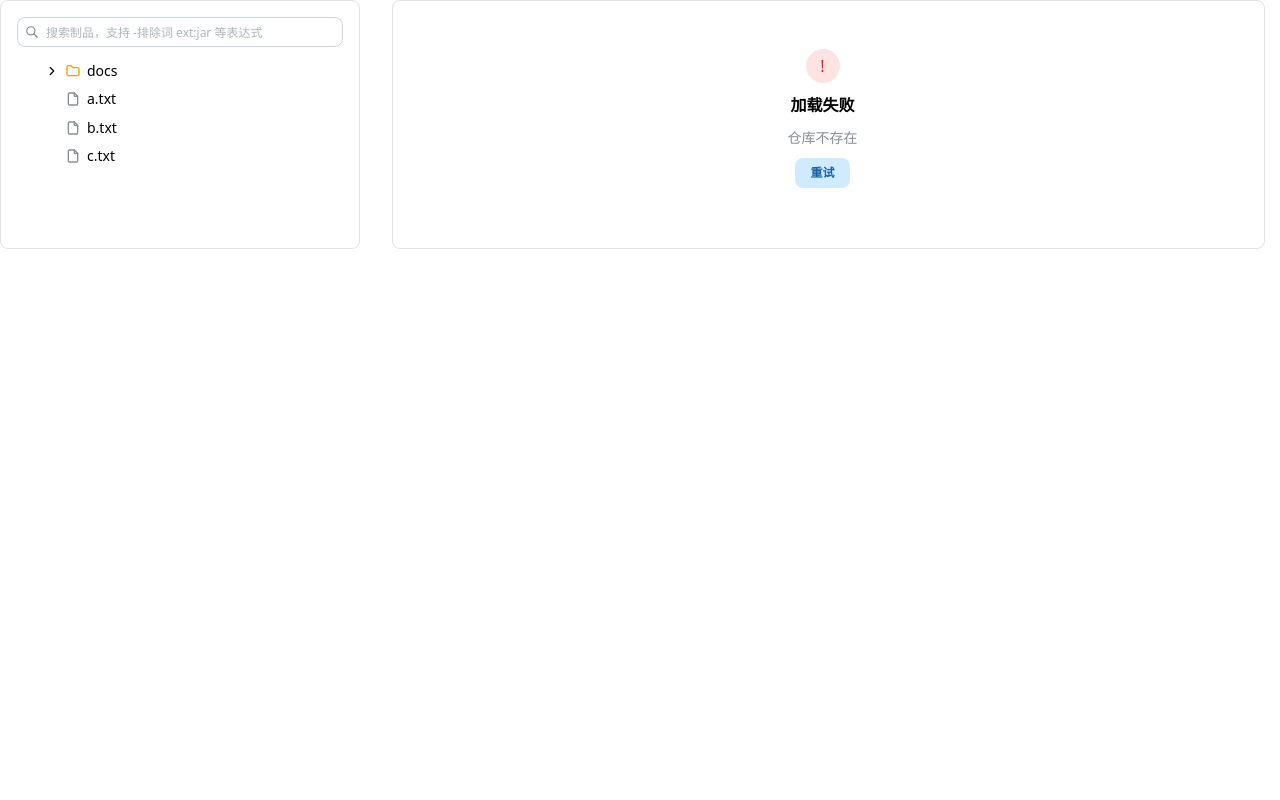
it: 资产树操作 › 成功操作刷新树并清空选择和详情
Click the list item "a.txt": (73, 99) [17, 85, 331, 114]
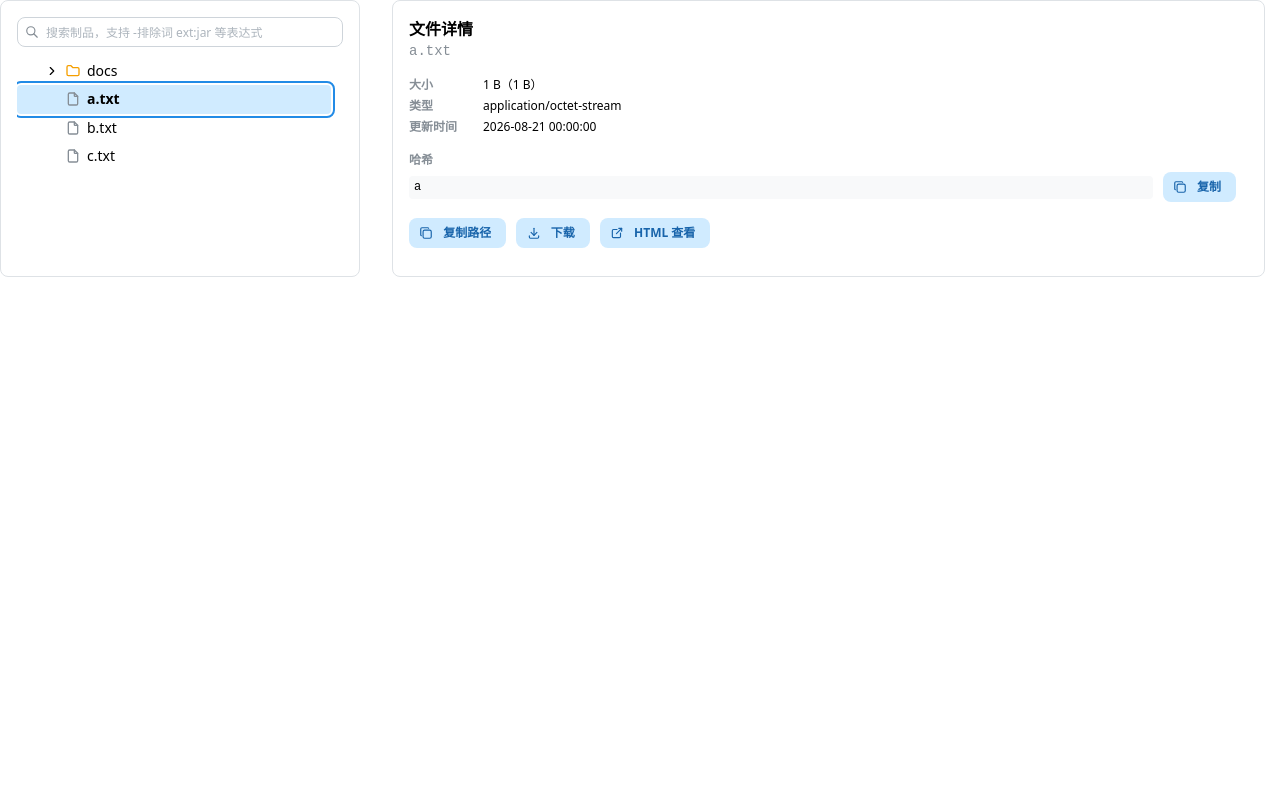
Check: the heading "文件详情" is shown, box [409, 18, 473, 40]
Right-click the list item "a.txt": (103, 99) [17, 85, 331, 114]
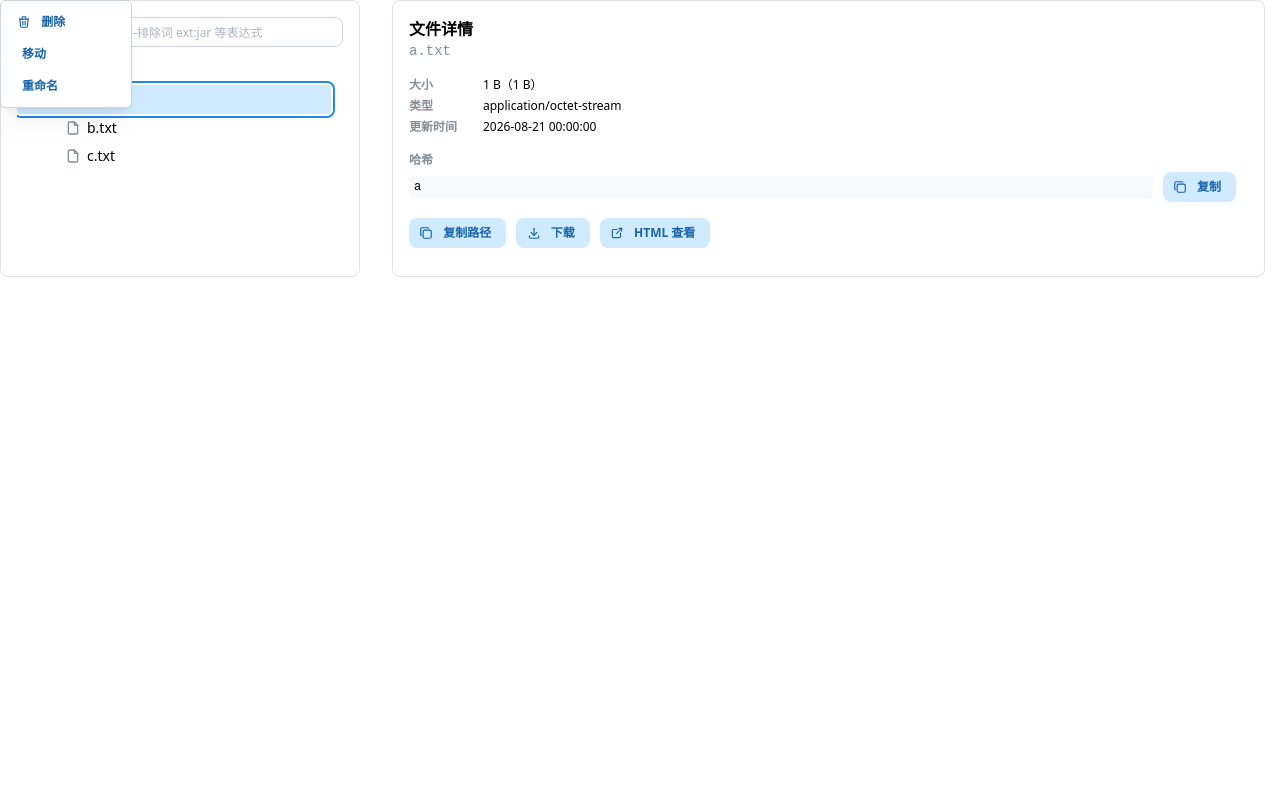
Click the menu item "删除": (66, 22) [7, 7, 125, 37]
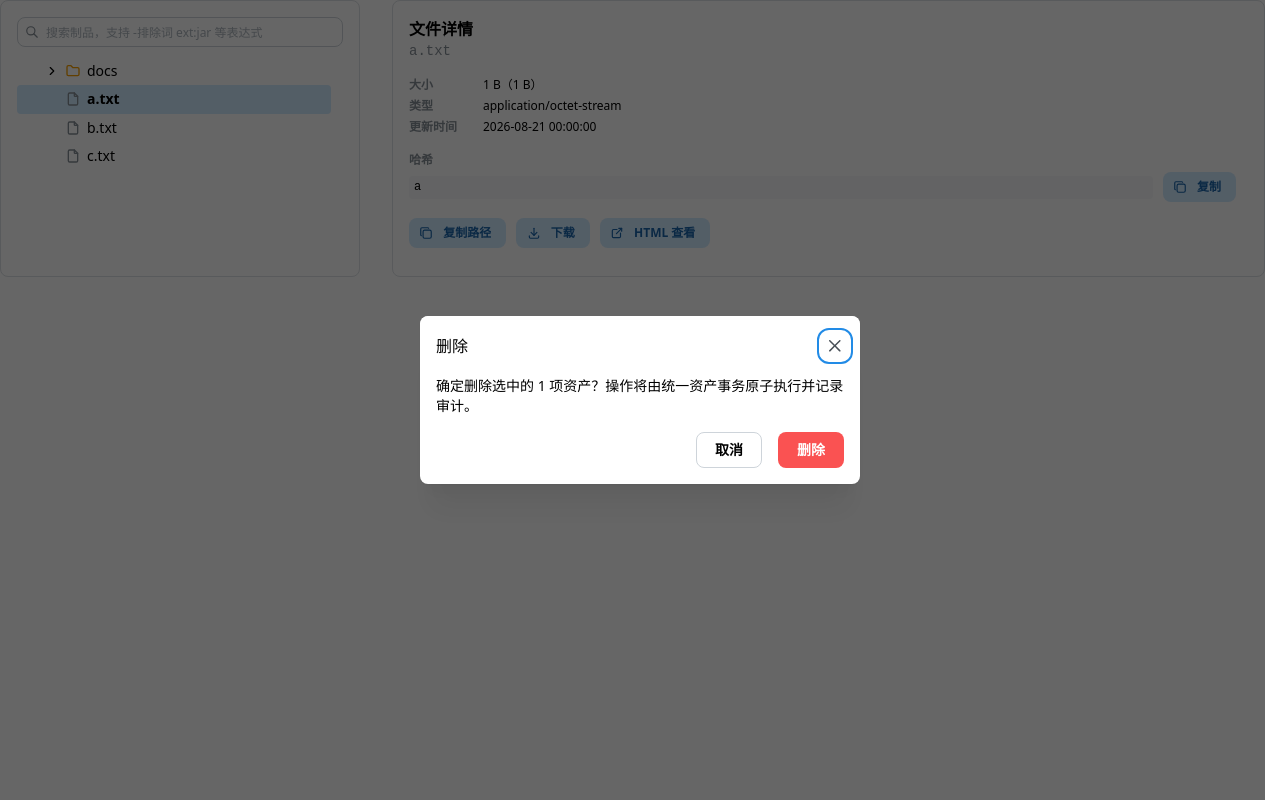
Click the button "删除": (811, 450) [778, 432, 844, 468]
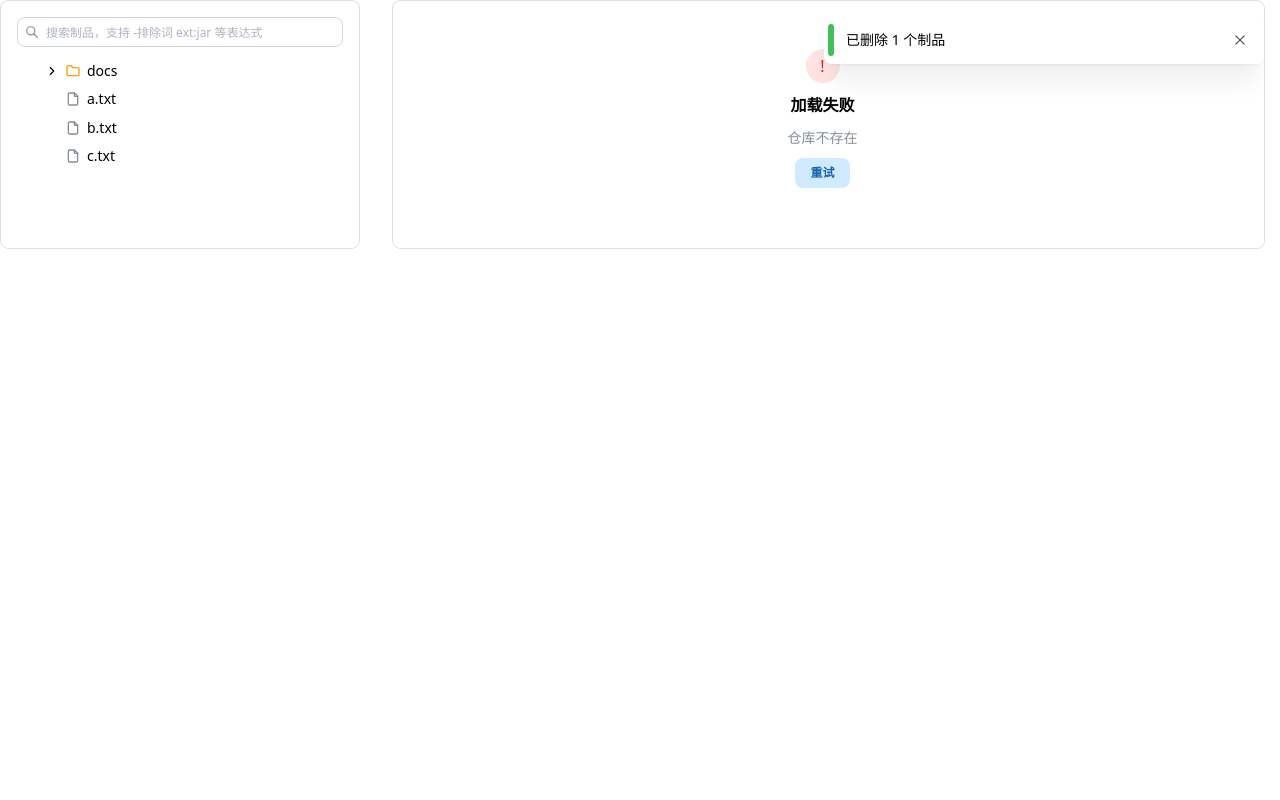
Check: the heading "文件详情" is gone
